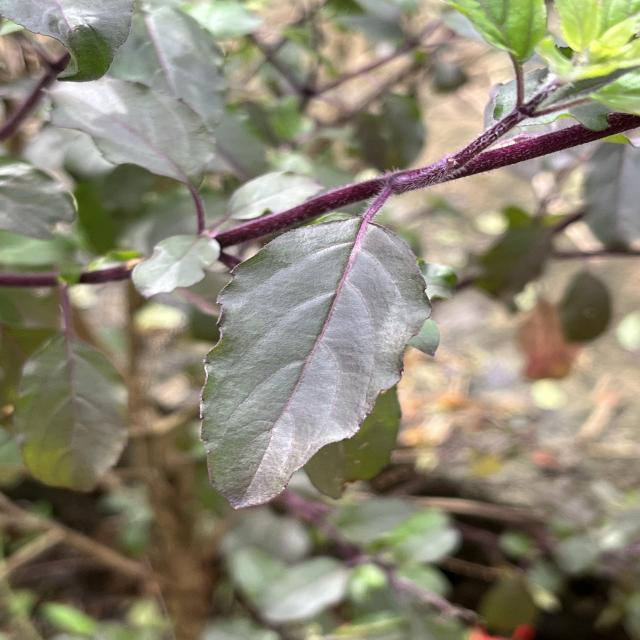Ocimum tenuiflorum: (196, 216, 437, 514)
